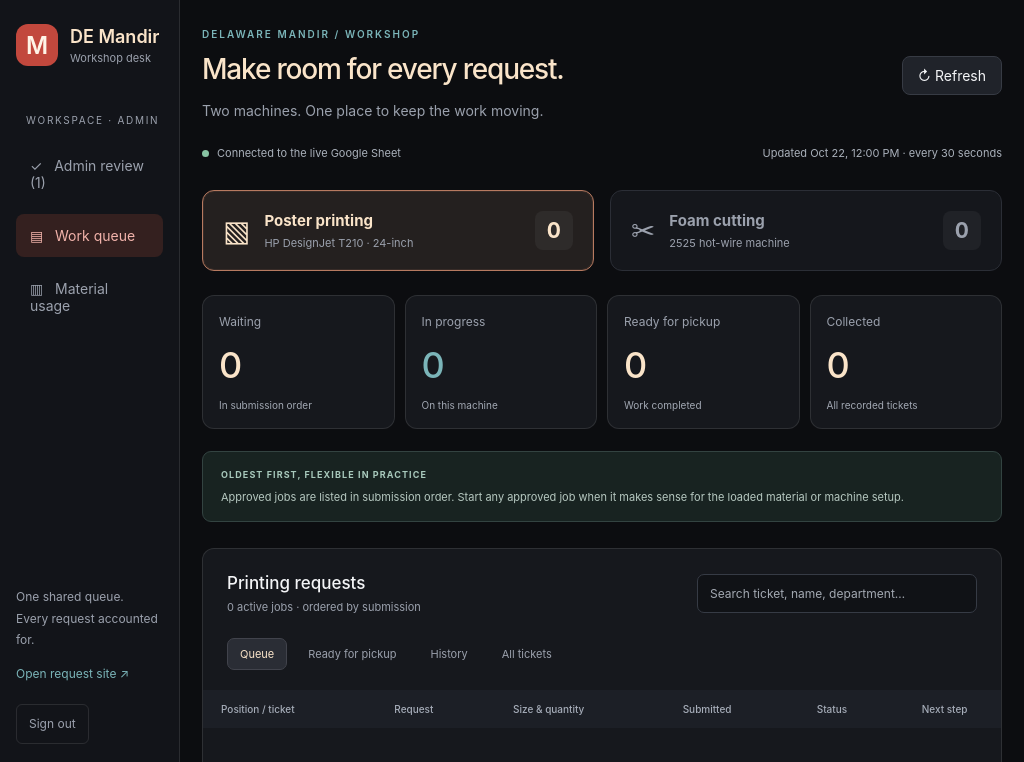
Test: admins see review inbox while production queue contains approved jobs only
The image size is (1024, 762).
Expected: the heading "Printing requests" is shown, 227,573 -> 365,593
Expected: the text "Design P-0003" is not shown
Click the button "✓ Admin review (1)" at (90, 174), box 16,144 -> 163,204
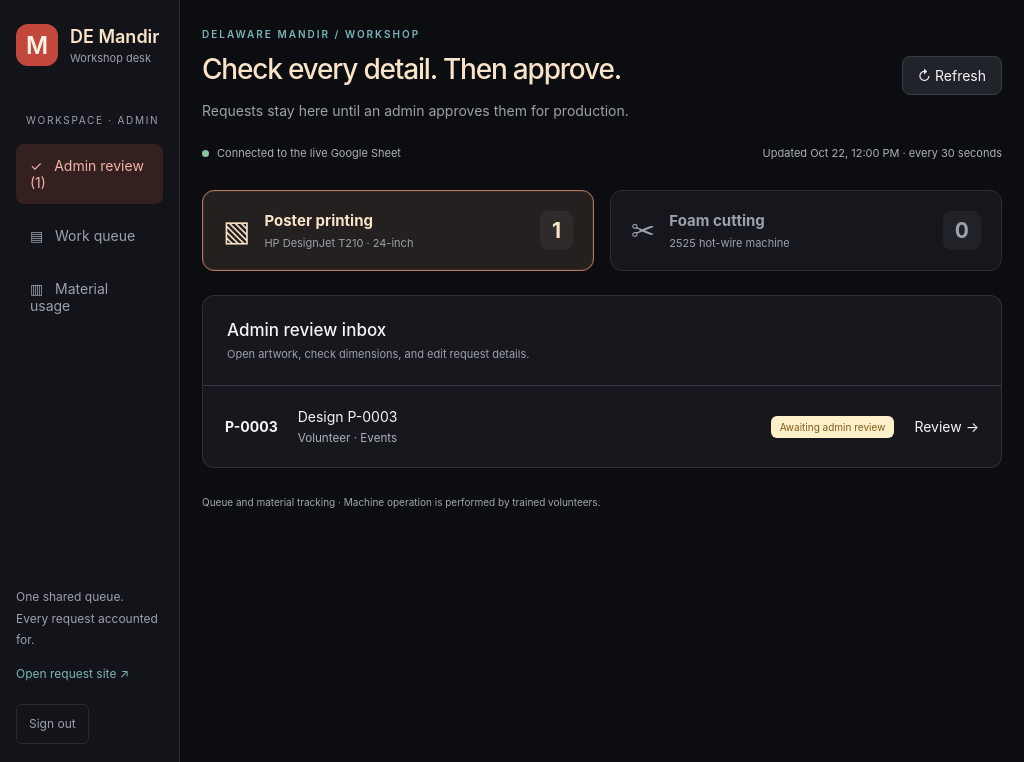
Click the button "P-0003" at (251, 427), box 203,385 -> 1001,467
(page scrolled)
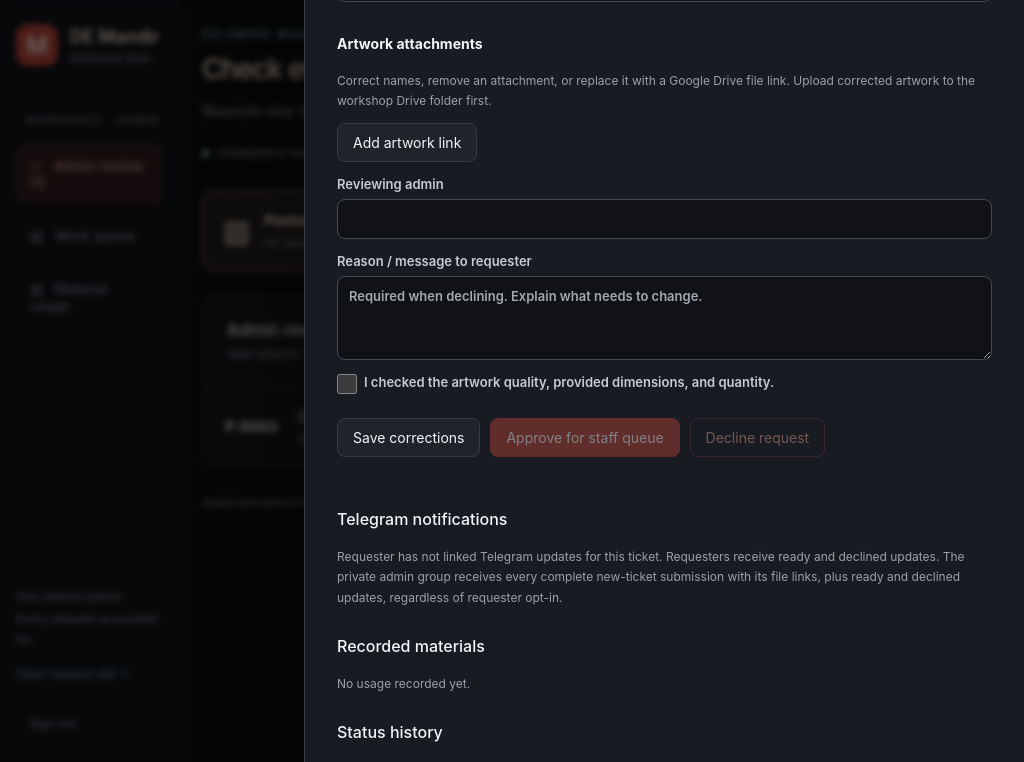
Result: the button "Approve for staff queue" is disabled at 490,418 -> 680,457
Click the checkbox labelled "I checked the artwork quality" at (347, 384), box 337,374 -> 357,394
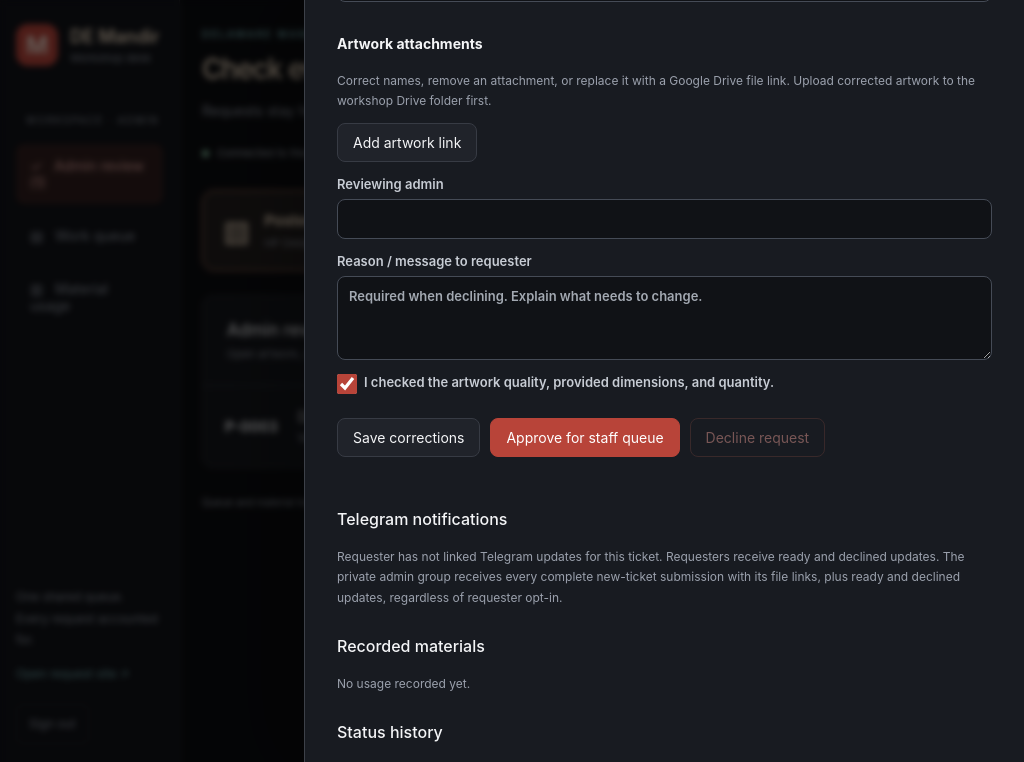
Result: the button "Approve for staff queue" is enabled at 490,418 -> 680,457
